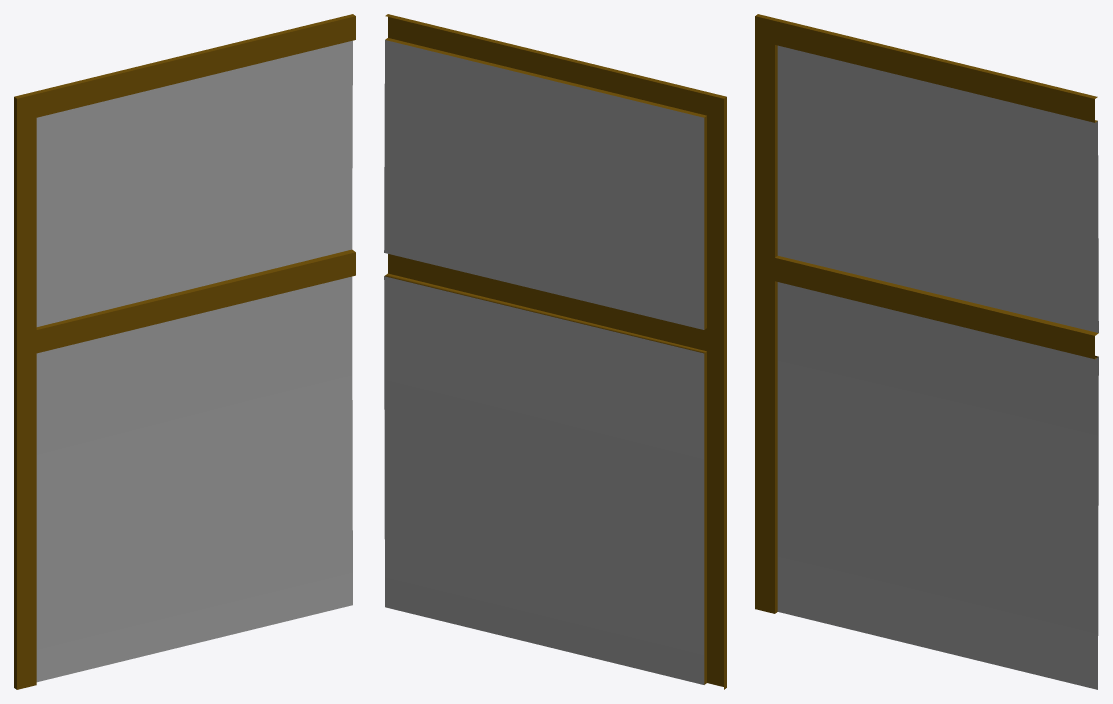
The model's file is Wall_Low.fbx.
The picture shows the model from 3 angles, left to right: view 1: azimuth 30°, elevation 25°; view 2: azimuth 150°, elevation 25°; view 3: azimuth 330°, elevation 25°; orthographic projection.
Visible parts, largest first — view 1: Wall; view 2: Wall; view 3: Wall.
Part boxes in pixels (bbox=[...]): Wall: bbox=[14, 14, 355, 689]; Wall: bbox=[384, 14, 726, 689]; Wall: bbox=[755, 14, 1098, 689].
Bounding box in the file's own units: 3 × 5 × 0.0574.
